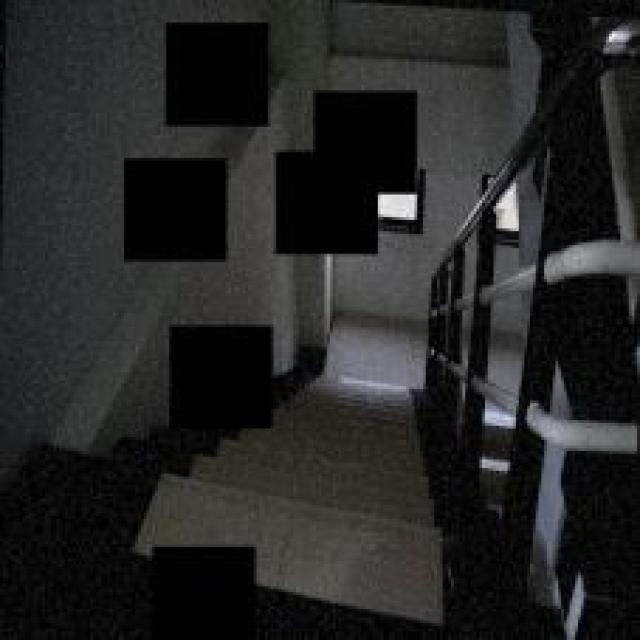downstair: (288, 389, 437, 598)
